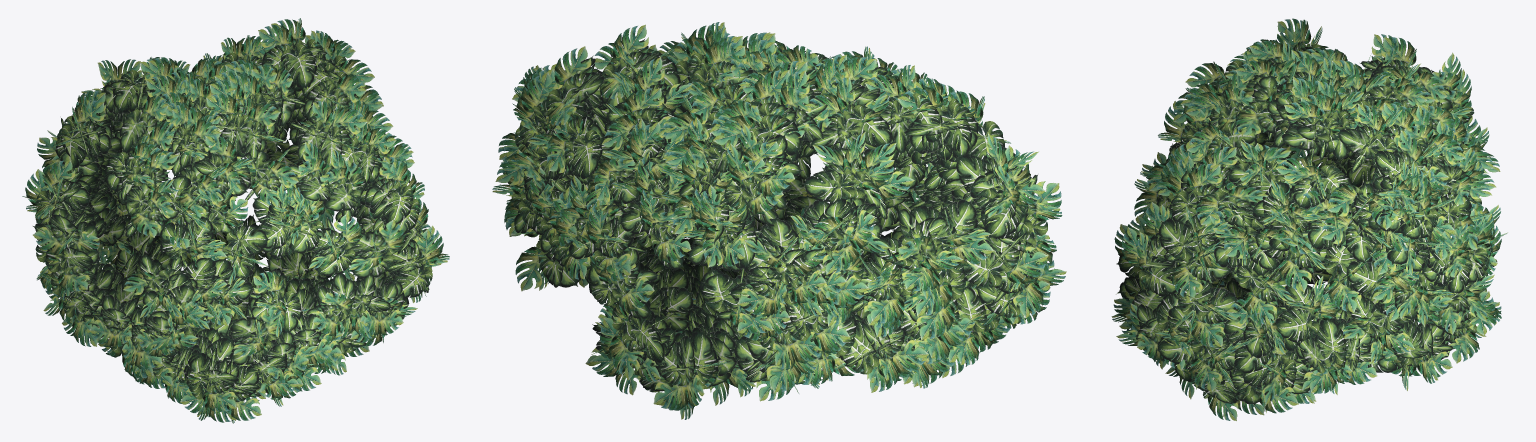
File: Tree3Top.fbx
The picture shows the model from 3 angles, left to right: view 1: azimuth 30°, elevation 25°; view 2: azimuth 150°, elevation 25°; view 3: azimuth 270°, elevation 25°; orthographic projection. The views are drawn at different scales.
Parts seen in each view (by area): view 1: Leaf3; view 2: Leaf3; view 3: Leaf3.
Boxes of the visible parts, x1,y1,x2,y2 form: Leaf3: [22, 18, 449, 423]; Leaf3: [492, 22, 1066, 419]; Leaf3: [1111, 18, 1507, 420].
Bounding box in the file's own units: 25.66 × 19.15 × 21.37.
